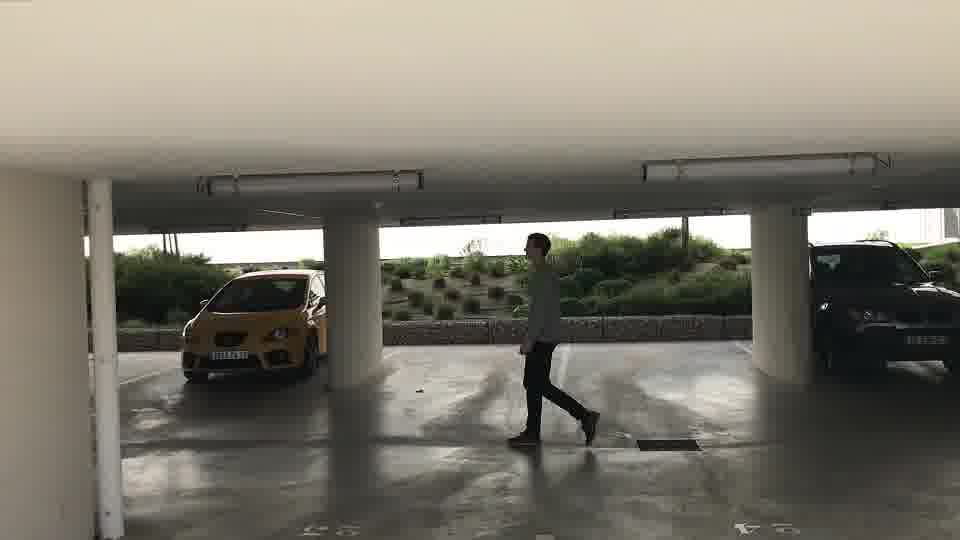jugador: (491, 229, 605, 456)
